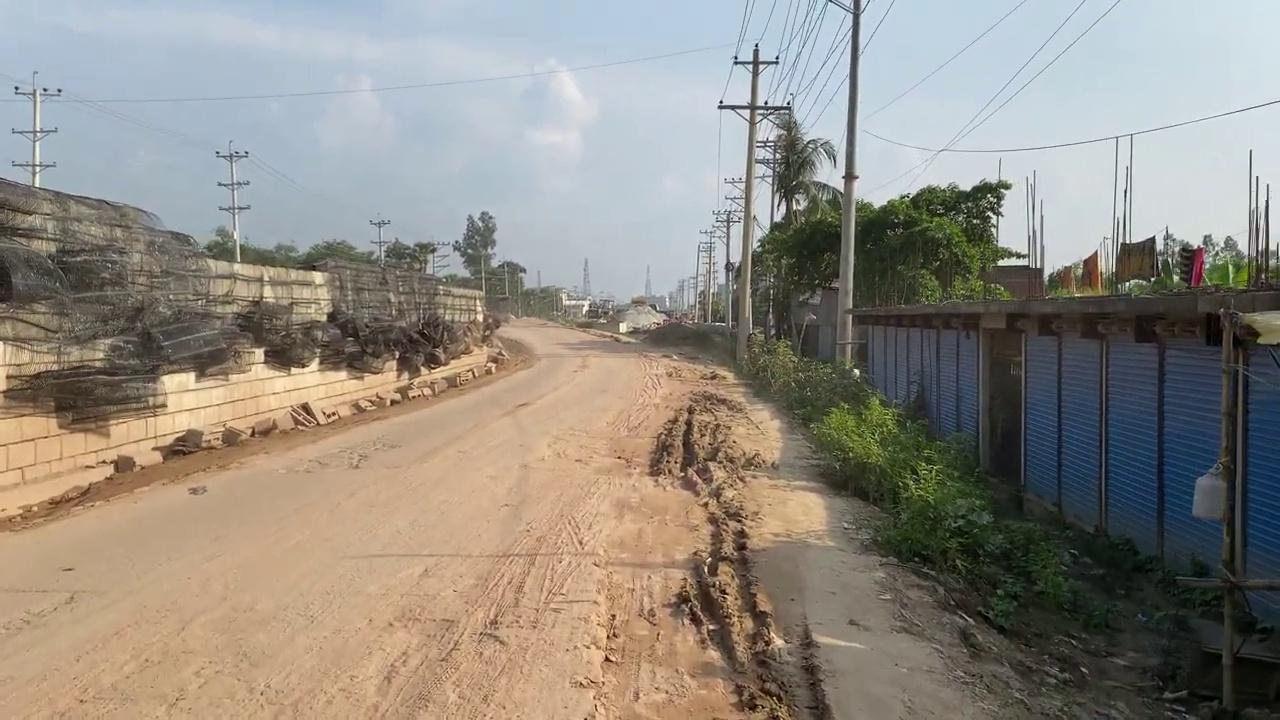Garbage: (0, 175, 502, 424)
Obstacle: (1185, 302, 1279, 713)
Pole: (833, 0, 862, 366)
Rickshaw: (664, 349, 1030, 718)
Traffic-sign: (452, 209, 497, 299)
Tree: (614, 301, 665, 335), (558, 291, 614, 321), (583, 297, 614, 320)
